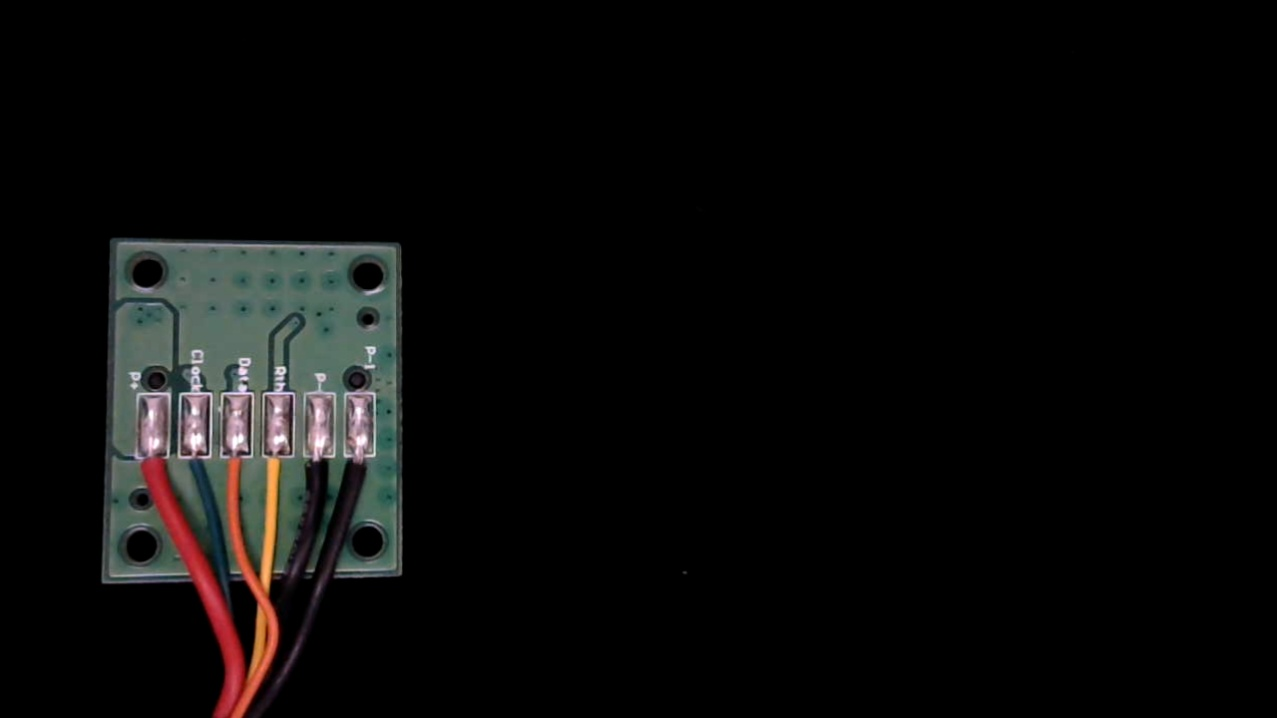Black: (303, 440, 334, 503)
Black1: (344, 437, 378, 505)
Green: (179, 438, 215, 509)
Orange: (220, 438, 254, 511)
Red: (135, 440, 170, 511)
Yellow: (260, 441, 295, 516)
